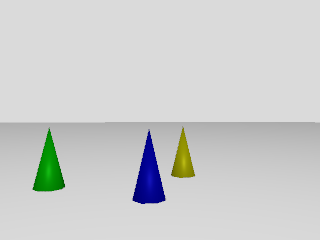blue: (133, 130, 164, 203)
green: (32, 125, 66, 193)
yellow: (171, 125, 196, 179)
